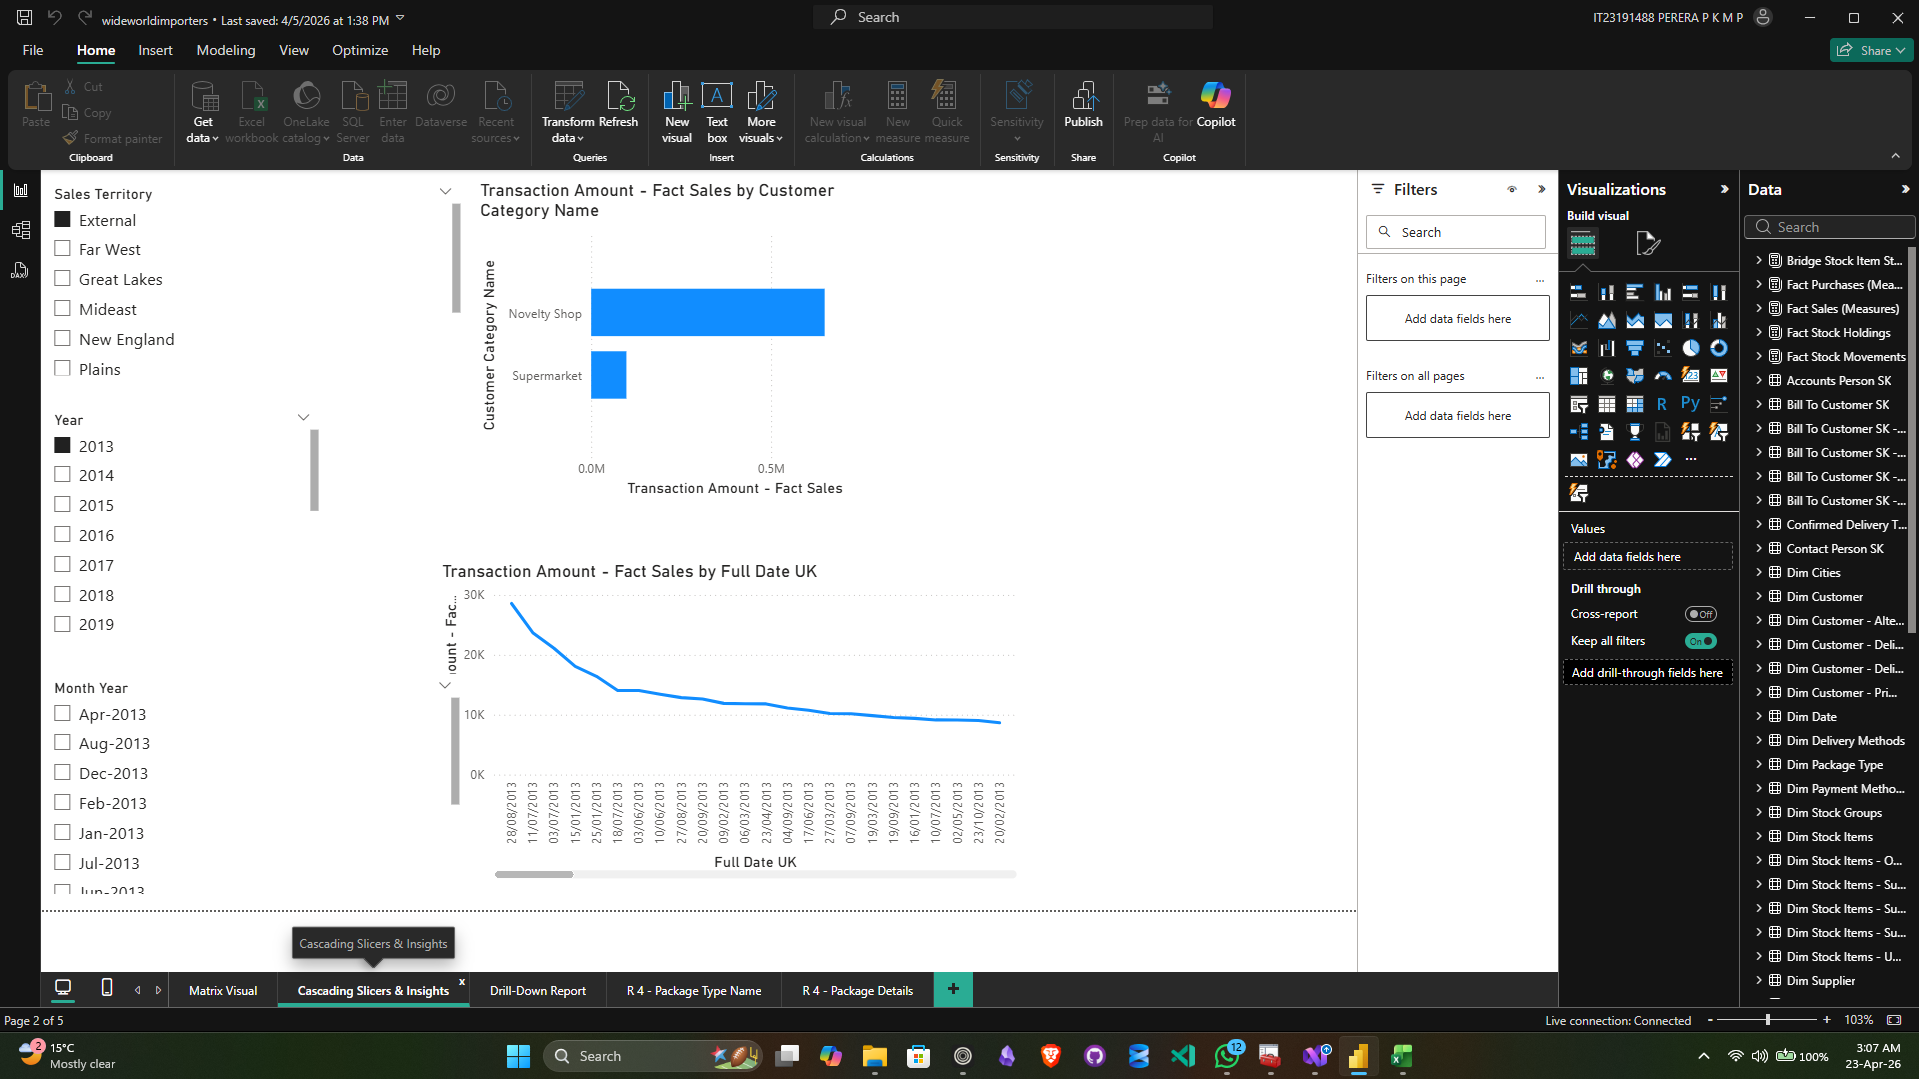

This screenshot's page, from the dashboard's own definition file:
{"tool":"powerbi","page":{"name":"Cascading Slicers & Insights","canvas":[1280,720],"ordinal":1},"visuals":[{"type":"clusteredBarChart","fields":{"Y":["Fact Sales (Measures).Transaction Amount - Fact Sales"],"Category":["Dim Customer.Customer Category Name"]},"box":[422,10,412,312],"z":0},{"type":"lineChart","fields":{"Y":["Fact Sales (Measures).Transaction Amount - Fact Sales"],"Category":["Order Date SK.Full Date UK"]},"box":[385,380,568.8,313.8],"z":1000},{"type":"slicer","fields":{"Values":["Dim Cities.Sales Territory"]},"box":[0,10,412.7,194.5],"z":2000},{"type":"slicer","fields":{"Values":["Order Date SK.Year"]},"box":[0,230,274.5,231.8],"z":3000},{"type":"slicer","fields":{"Values":["Order Date SK.Month Year"]},"box":[0,490,412.2,218.9],"z":4000}]}

Visuals, with their boxes on the page's 1280x720 design canvas (x1, y1, x2, y2). These are canvas units, not pixel positions in the 1919x1079 screenshot, which may show the page scaled, cropped or inside an application window:
clusteredBarChart - Fact Sales (Measures).Transaction Amount - Fact Sales x Dim Customer.Customer Category Name: [left=422, top=10, right=834, bottom=322]
lineChart - Fact Sales (Measures).Transaction Amount - Fact Sales x Order Date SK.Full Date UK: [left=385, top=380, right=954, bottom=694]
slicer - Dim Cities.Sales Territory: [left=0, top=10, right=413, bottom=204]
slicer - Order Date SK.Year: [left=0, top=230, right=274, bottom=462]
slicer - Order Date SK.Month Year: [left=0, top=490, right=412, bottom=709]
